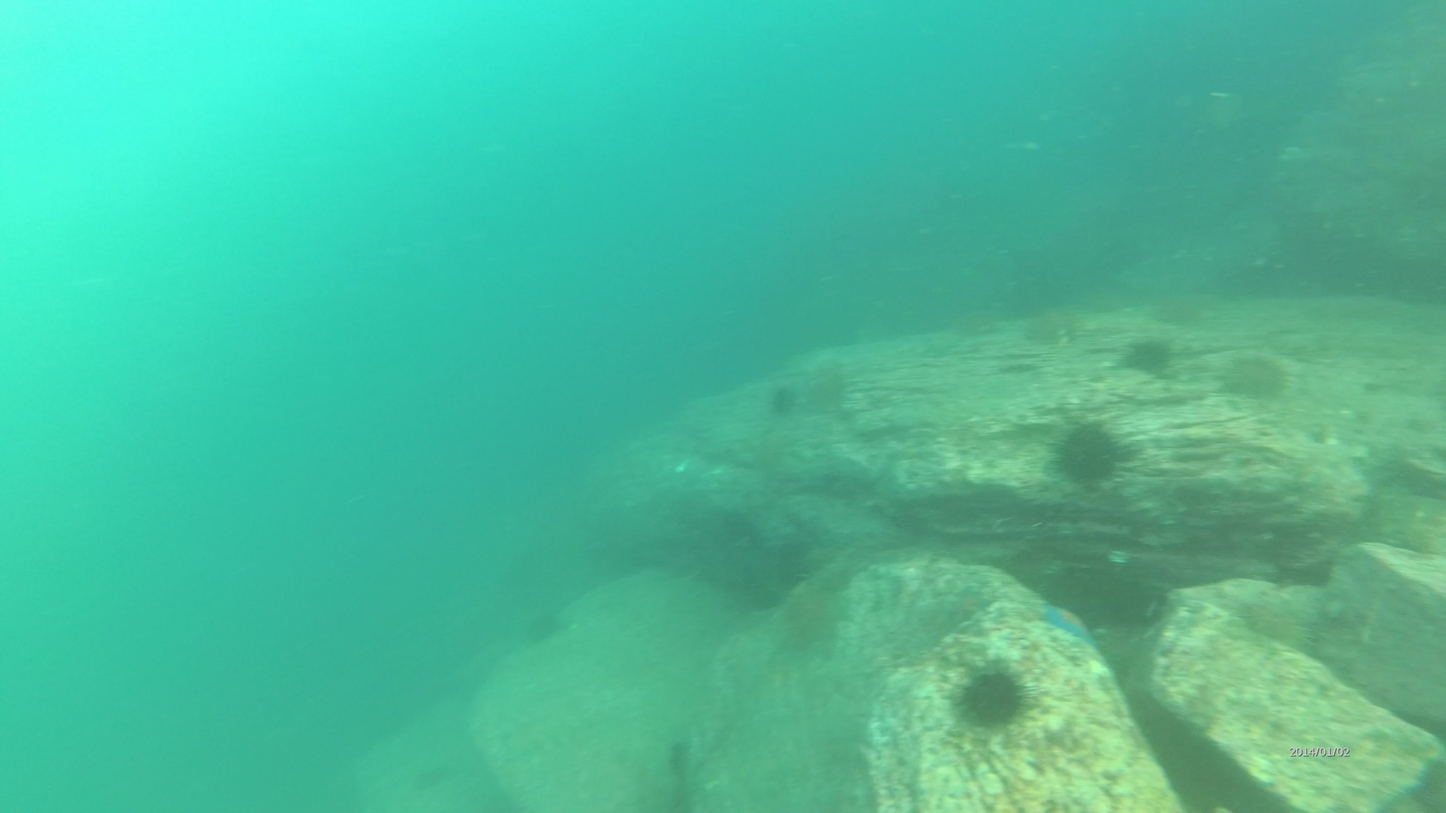holothurian: (1035, 598, 1090, 636)
starfish: (1044, 424, 1132, 492), (952, 661, 1033, 727), (1222, 349, 1300, 407), (1120, 337, 1167, 377)
